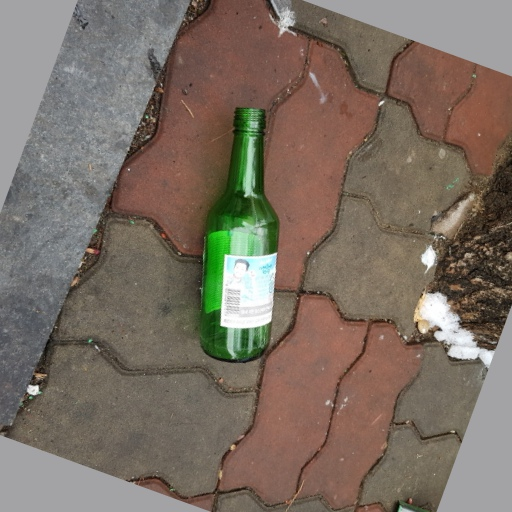Glass_0: (200, 106, 281, 361)
